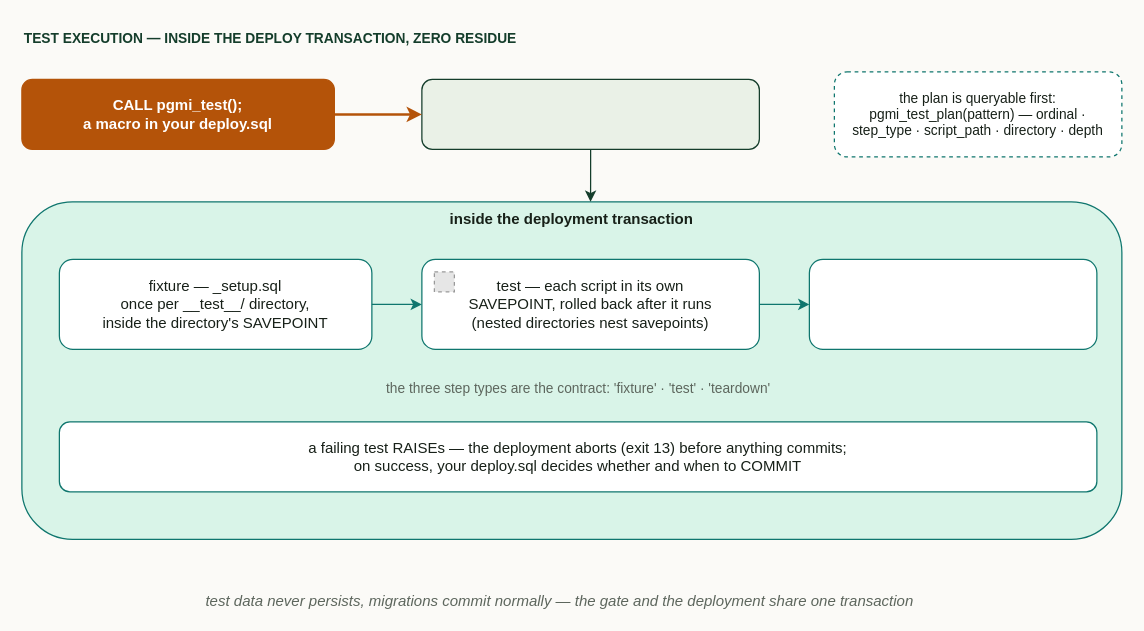
This 1144x631 diagram has some shape labels left out. Grey dashed boxes stand in for pictures. Each missing label, with the centre of its shape:
"Go preprocessor expands it — pgmi_test_generate() emits inline SQL" goes at point (590, 113).
"teardown — the directory's SAVEPOINT rolls back: fixtures leave no residue" goes at point (952, 303).
